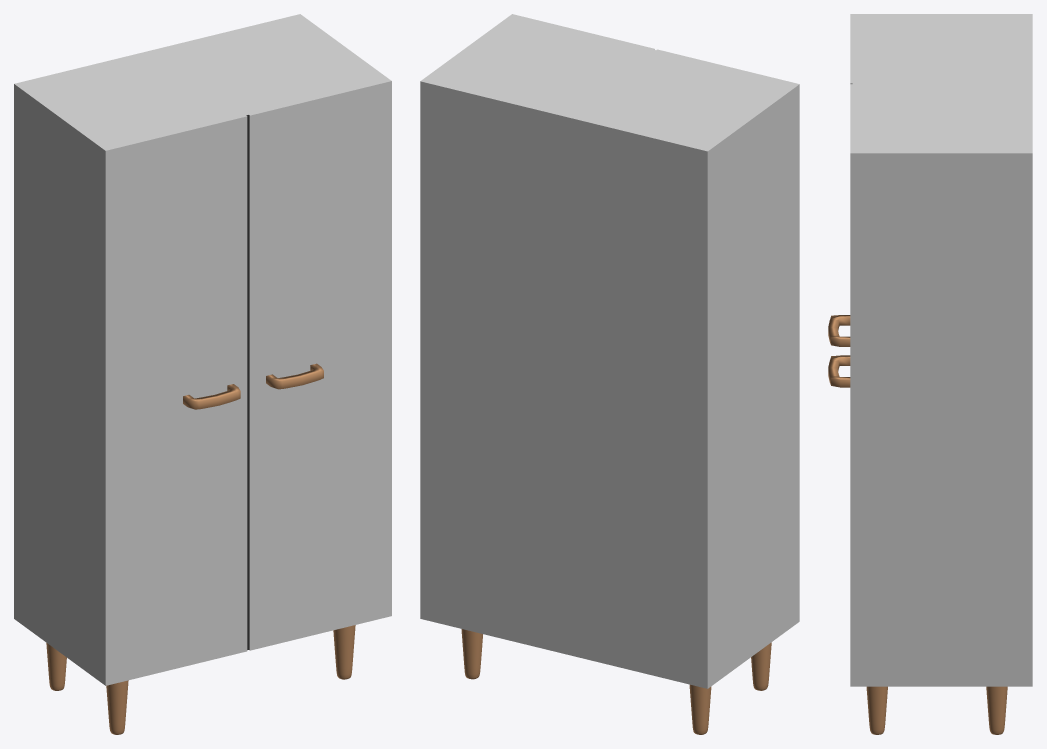
The model's file is wardrobe.glb.
3 views of the same model, side by side, from view 1: azimuth 30°, elevation 25°; view 2: azimuth 150°, elevation 25°; view 3: azimuth 270°, elevation 25° (orthographic).
Visible parts, largest first — view 1: Wardrobe_0; view 2: Wardrobe_0; view 3: Wardrobe_0.
Boxes of the visible parts, <box> form: Wardrobe_0: <box>14,14,391,734</box>; Wardrobe_0: <box>420,14,799,734</box>; Wardrobe_0: <box>828,14,1032,734</box>.
Size of the model in its own units: 0.966 by 1.93 by 0.6.
